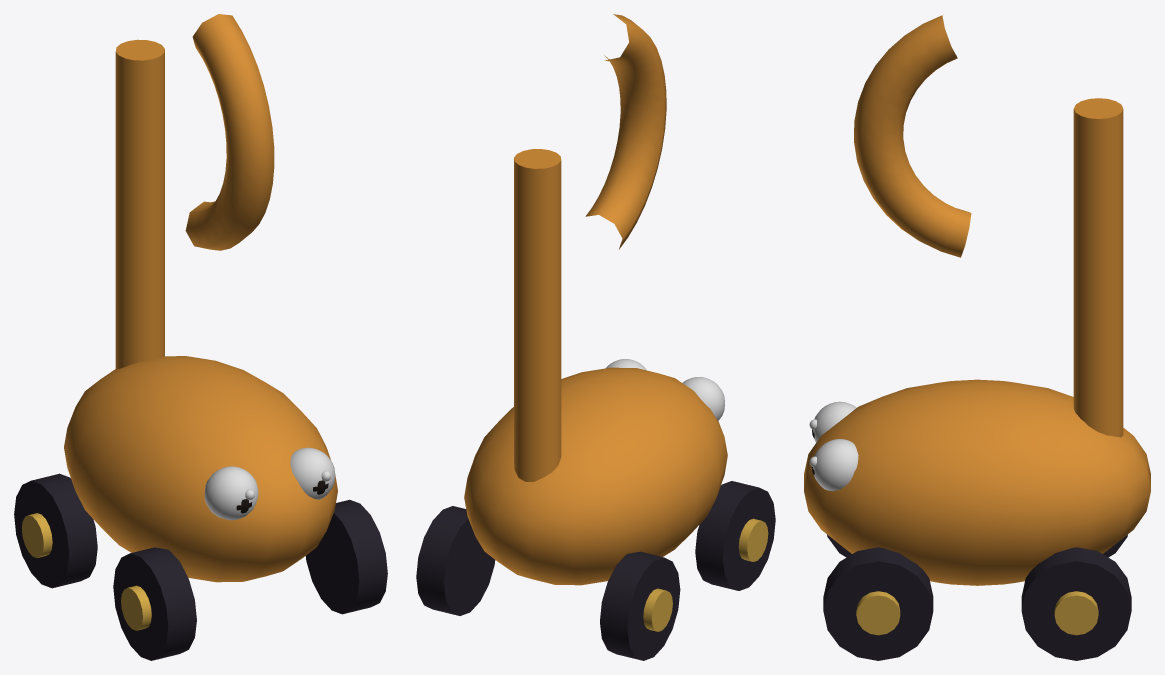
The model's file is noteCar.glb.
3 renders of one model, left to right at view 1: azimuth 30°, elevation 25°; view 2: azimuth 150°, elevation 25°; view 3: azimuth 270°, elevation 25°, orthographic. The views are drawn at different scales.
Parts seen in each view (by area): view 1: part_000; view 2: part_000; view 3: part_000.
Part boxes in pixels (x1,y1,x2,y2): part_000: (14, 14, 387, 660); part_000: (416, 14, 775, 660); part_000: (804, 15, 1150, 660).
Bounding box in the file's own units: 0.994 × 2.37 × 1.26.
